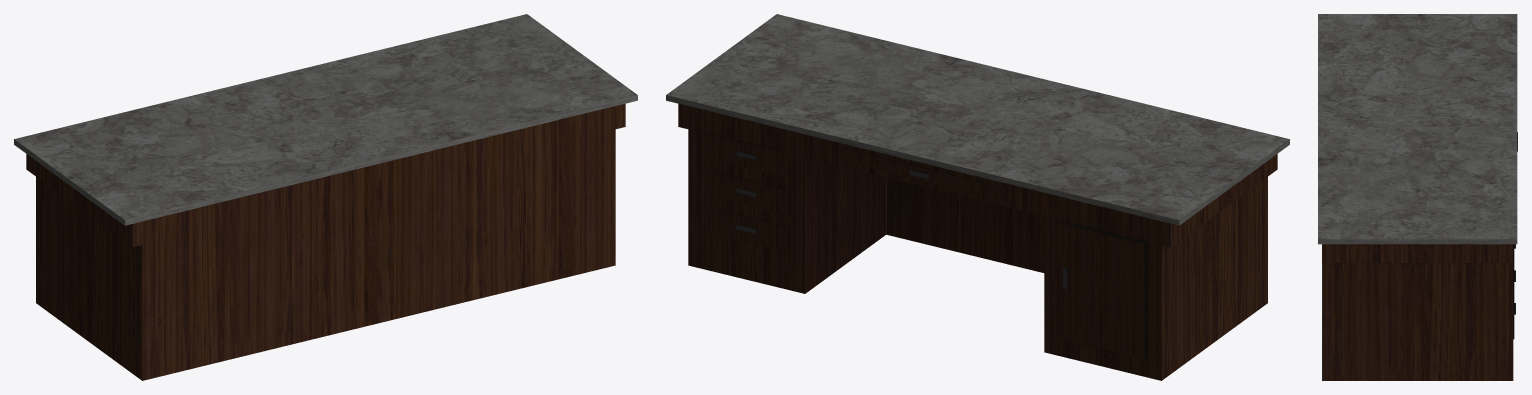
The model's file is ExecutiveDesk.fbx.
3 renders of one model, left to right at view 1: azimuth 30°, elevation 25°; view 2: azimuth 150°, elevation 25°; view 3: azimuth 270°, elevation 25°, orthographic. The views are drawn at different scales.
Parts seen in each view (by area): view 1: Executive Desk; view 2: Executive Desk; view 3: Executive Desk.
Part boxes in pixels (bbox=[...]): Executive Desk: bbox=[14, 14, 637, 380]; Executive Desk: bbox=[666, 14, 1289, 380]; Executive Desk: bbox=[1318, 14, 1517, 380].
Bounding box in the file's own units: 279 × 86.74 × 104.
